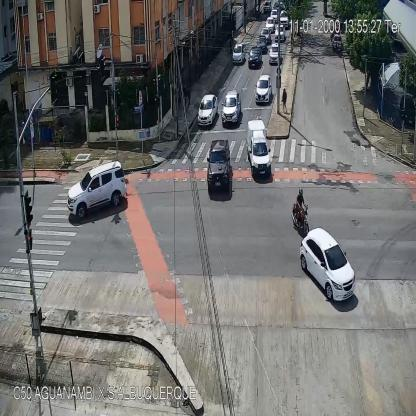car: (300, 227, 356, 304), (67, 161, 127, 219), (208, 140, 233, 195), (247, 121, 272, 176), (197, 94, 218, 128), (222, 90, 242, 124), (256, 76, 272, 102), (268, 43, 281, 65), (249, 49, 261, 69), (233, 44, 245, 63), (257, 34, 266, 54), (274, 27, 285, 43), (279, 11, 288, 30), (261, 25, 272, 39), (332, 34, 341, 49), (263, 1, 271, 15), (271, 10, 278, 25), (265, 17, 273, 30)
motorbike: (292, 189, 309, 237), (336, 42, 338, 56)
person: (281, 88, 288, 116), (186, 82, 191, 108), (183, 83, 187, 107)
